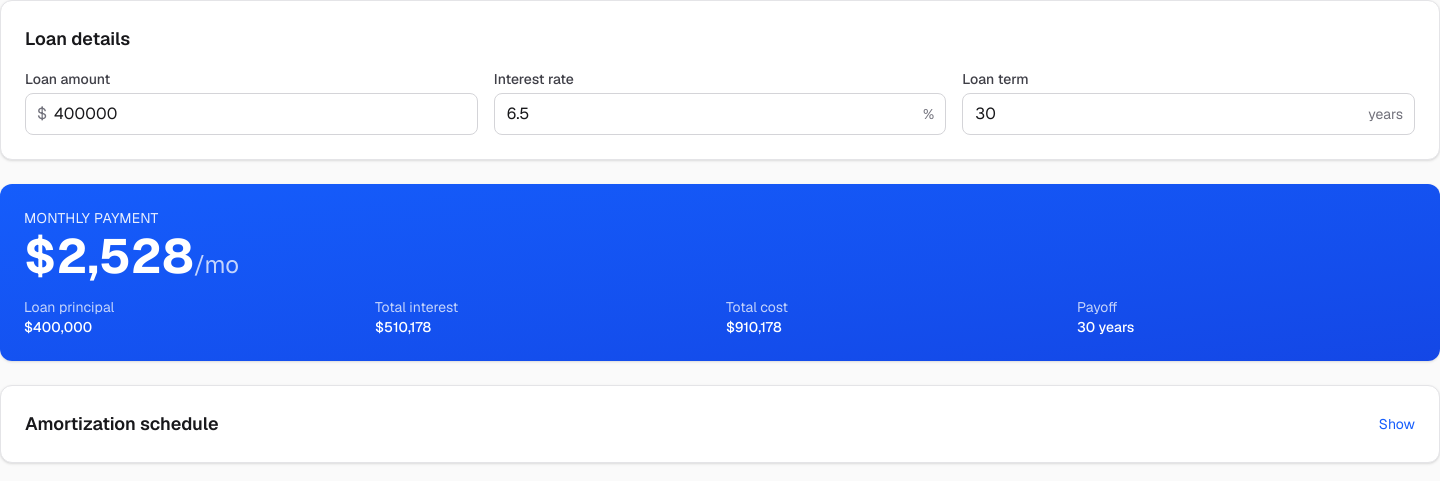
Test: MortgageCalculator › updates monthly payment when term years changes
Replace the text in the number field labelled "Loan term years" with "15" at coordinates (1189, 114), box x1=962 y1=93 x2=1415 y2=135
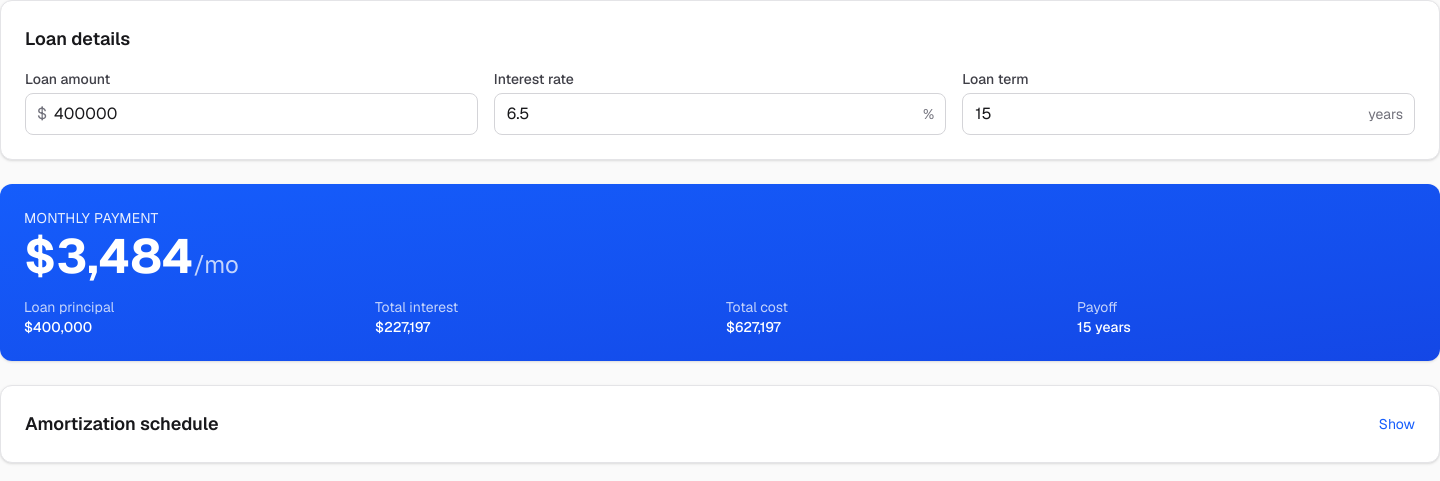
Expected: the text "$3,484/mo" is shown, x1=24 y1=225 x2=239 y2=287
